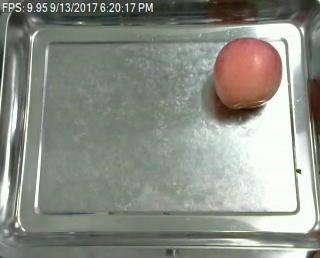apple: (212, 38, 280, 110)
